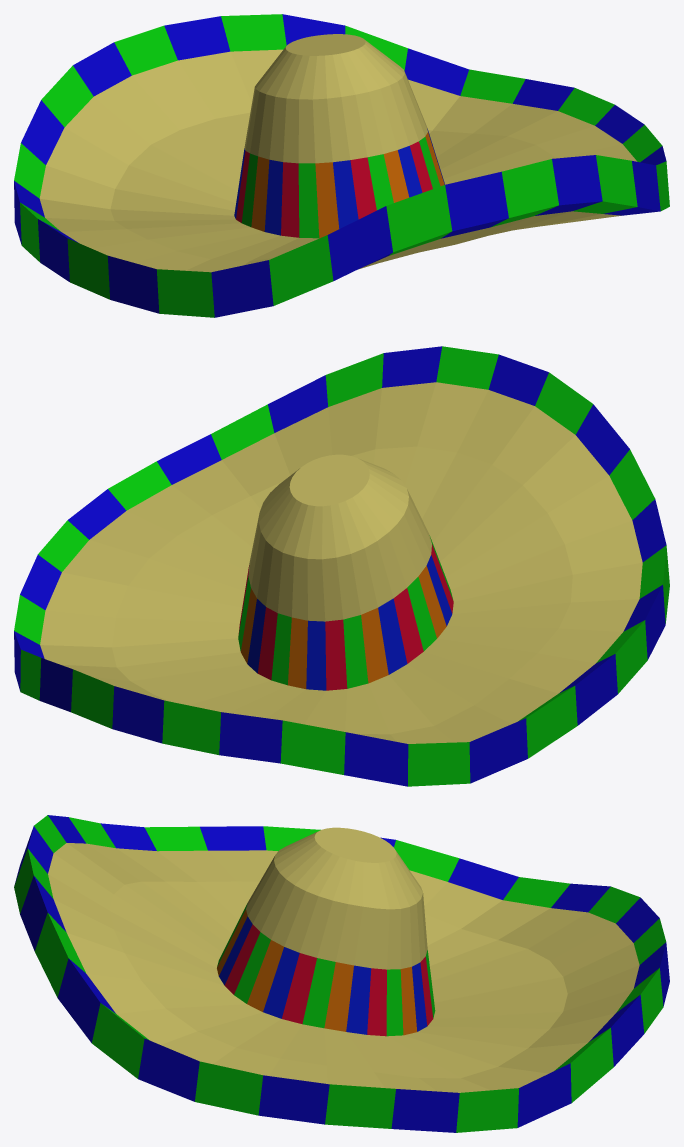
File: SkeletonHat.glb
3 renders of one model, top to bottom at view 1: azimuth 30°, elevation 25°; view 2: azimuth 150°, elevation 25°; view 3: azimuth 270°, elevation 25°, orthographic. The views are drawn at different scales.
Parts seen in each view (by area): view 1: Hat; view 2: Hat; view 3: Hat.
Boxes of the visible parts, left/top/right/bottom form: Hat: left=14, top=14, right=669, bottom=317; Hat: left=14, top=346, right=669, bottom=786; Hat: left=14, top=815, right=669, bottom=1132.
Size of the model in its own units: 2.72 by 0.9649 by 2.97.
